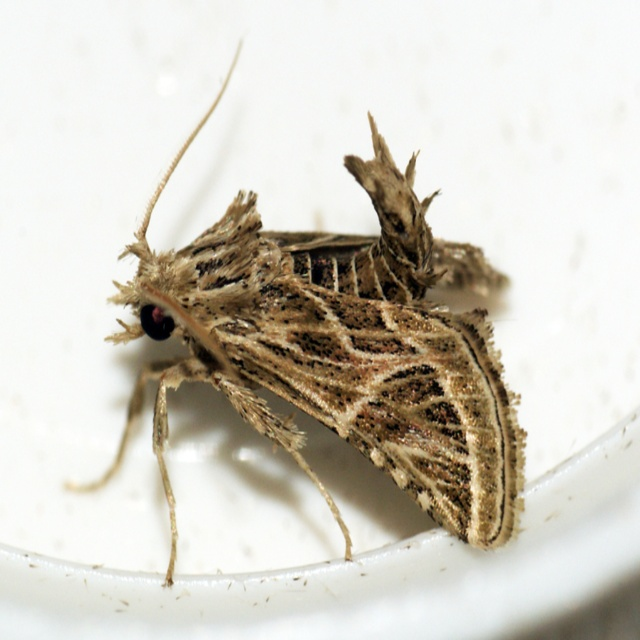Moths and butterflies: (64, 35, 528, 591)
